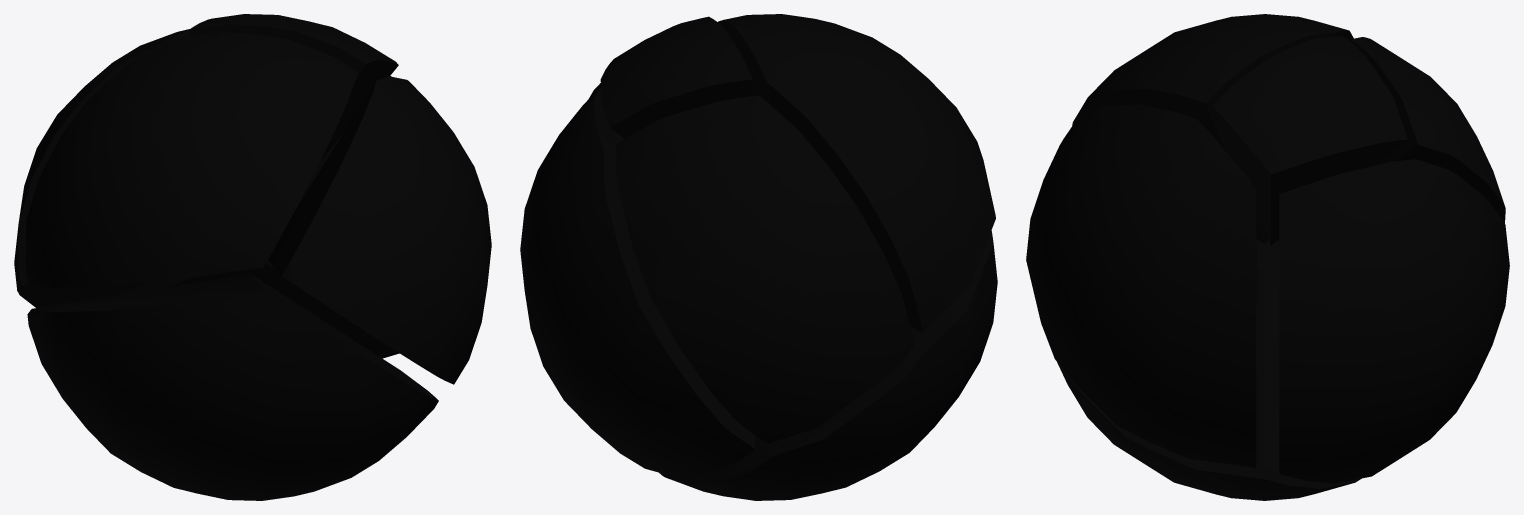
File: Enemy_Melee_Debri.fbx
3 renders of one model, left to right at view 1: azimuth 30°, elevation 25°; view 2: azimuth 150°, elevation 25°; view 3: azimuth 270°, elevation 25°, orthographic.
Visible parts, largest first — view 1: Enemy_Melee_Debri.002, Enemy_Melee_Debri.004, Enemy_Melee_Debri.003, Enemy_Melee_Debri, Enemy_Melee_Debri.001, Enemy_Melee_Debri.005; view 2: Enemy_Melee_Debri.001, Enemy_Melee_Debri.005, Enemy_Melee_Debri.004, Enemy_Melee_Debri.002, Enemy_Melee_Debri; view 3: Enemy_Melee_Debri.003, Enemy_Melee_Debri.005, Enemy_Melee_Debri, Enemy_Melee_Debri.004, Enemy_Melee_Debri.002, Enemy_Melee_Debri.001.
Boxes of the visible parts, x1,y1,x2,y2 form: Enemy_Melee_Debri.002: (27,273,438,500); Enemy_Melee_Debri.004: (25,32,357,287); Enemy_Melee_Debri.003: (268,76,491,384); Enemy_Melee_Debri: (188,14,398,160); Enemy_Melee_Debri.001: (14,29,190,307); Enemy_Melee_Debri.005: (118,76,399,358); Enemy_Melee_Debri.001: (616,96,913,443); Enemy_Melee_Debri.005: (520,86,755,477); Enemy_Melee_Debri.004: (718,14,995,332); Enemy_Melee_Debri.002: (659,230,997,500); Enemy_Melee_Debri: (600,16,753,138); Enemy_Melee_Debri.003: (1026,104,1256,467); Enemy_Melee_Debri.005: (1279,159,1509,483); Enemy_Melee_Debri: (1212,36,1407,245); Enemy_Melee_Debri.004: (1072,14,1353,243); Enemy_Melee_Debri.002: (1057,239,1361,500); Enemy_Melee_Debri.001: (1351,37,1505,222).
Bounding box in the file's own units: 100 × 103 × 102.
